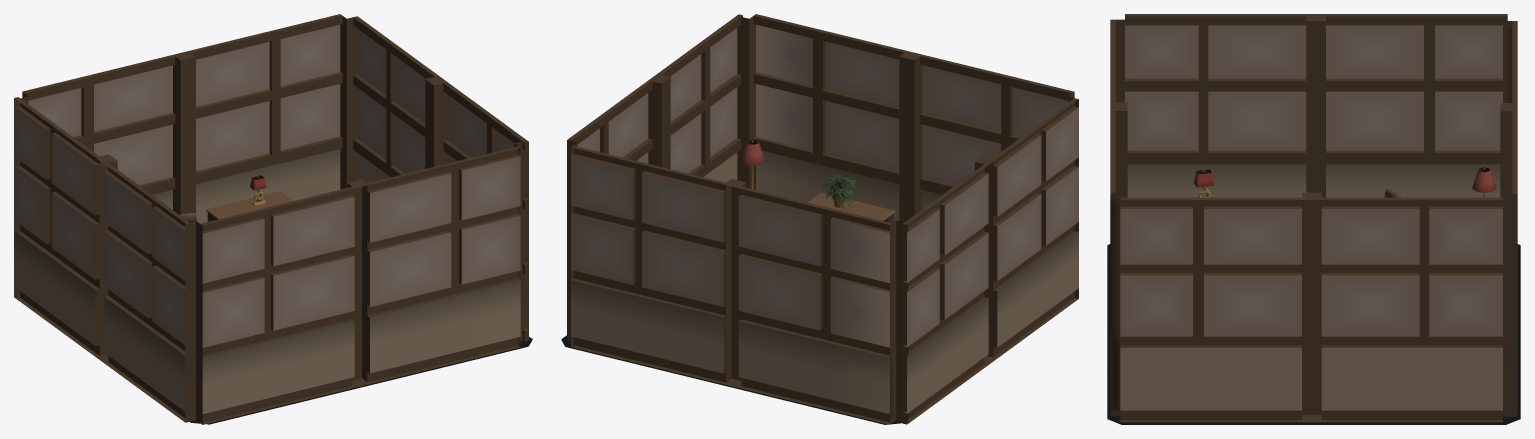
The model's file is backGroundRoom.fbx.
The picture shows the model from 3 angles, left to right: view 1: azimuth 30°, elevation 25°; view 2: azimuth 150°, elevation 25°; view 3: azimuth 270°, elevation 25°; orthographic projection. The views are drawn at different scales.
Parts seen in each view (by area): view 1: polySurface975; view 2: polySurface975; view 3: polySurface975.
Boxes of the visible parts, x1,y1,x2,y2 form: polySurface975: (14,14,532,424); polySurface975: (561,14,1078,424); polySurface975: (1107,14,1520,424).
Bounding box in the file's own units: 477 × 263 × 442.
